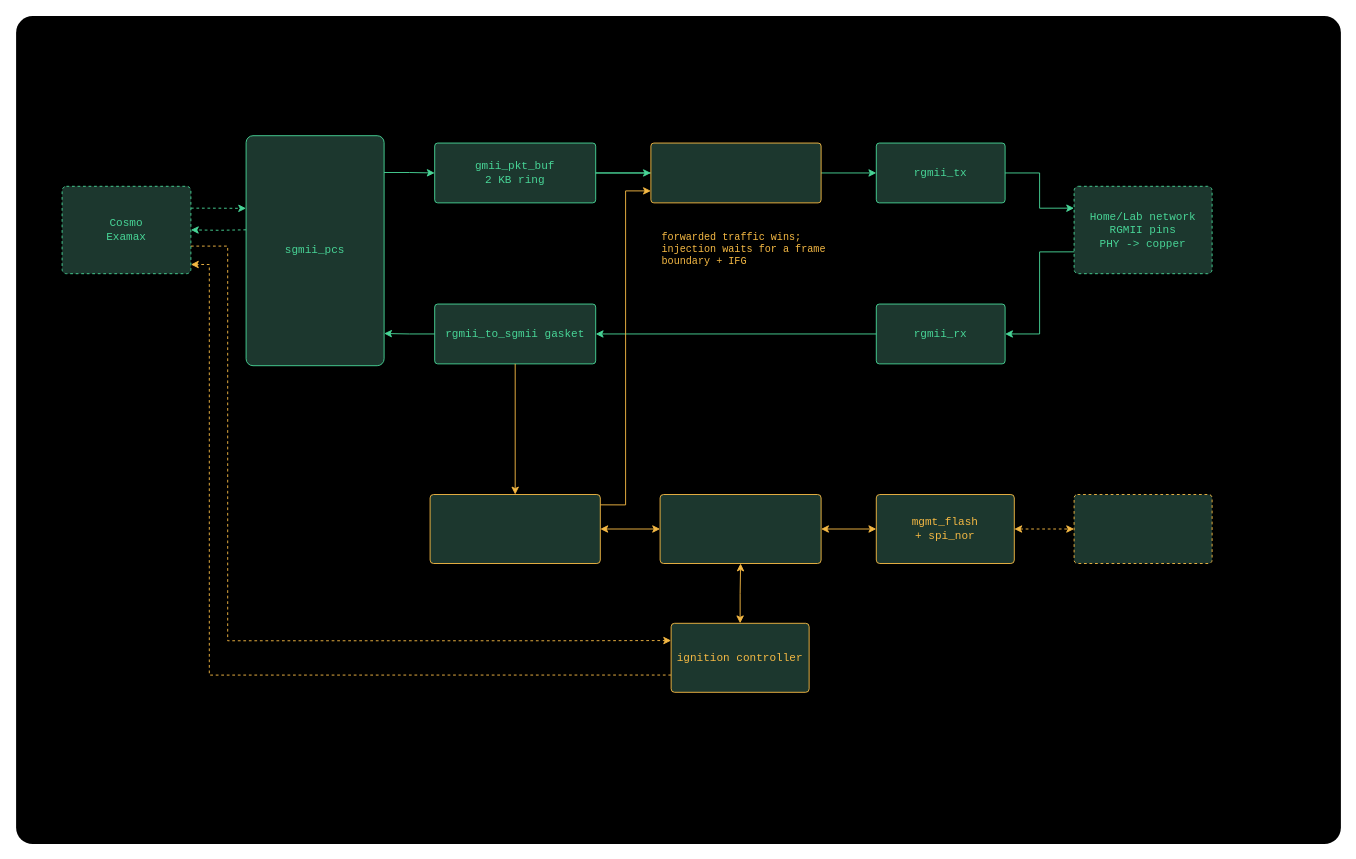
Image size: 1356x859. Some labels were removed from this diagram. Here are the shapes that lost their labels. From the top down, the centre of each, then its label:
At (x=735, y=172): "injection_mux".
At (x=514, y=529): "udp_endpoint IPv6 + NDP + ICMPv6".
At (x=740, y=529): "eth_mgmt protocol".
At (x=1142, y=529): "SPI NOR config flash".
